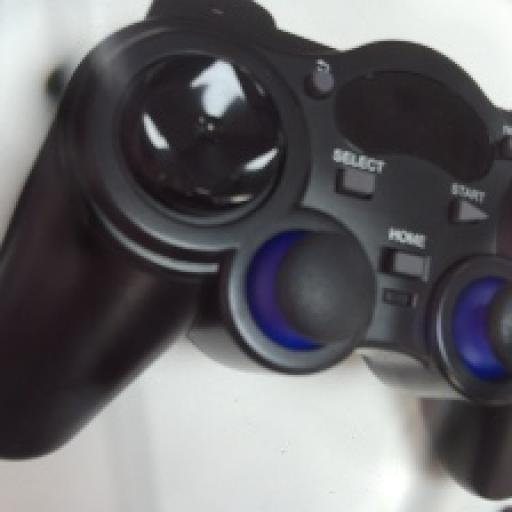game pad: (2, 0, 510, 494)
